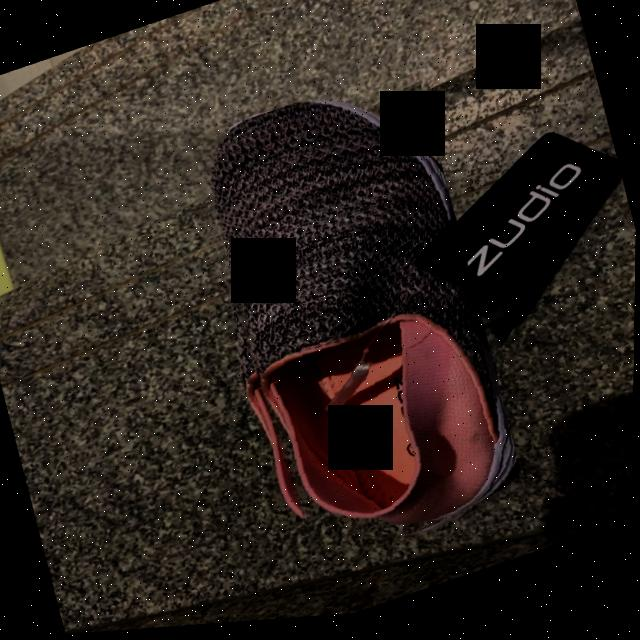shoe: (210, 107, 522, 536)
